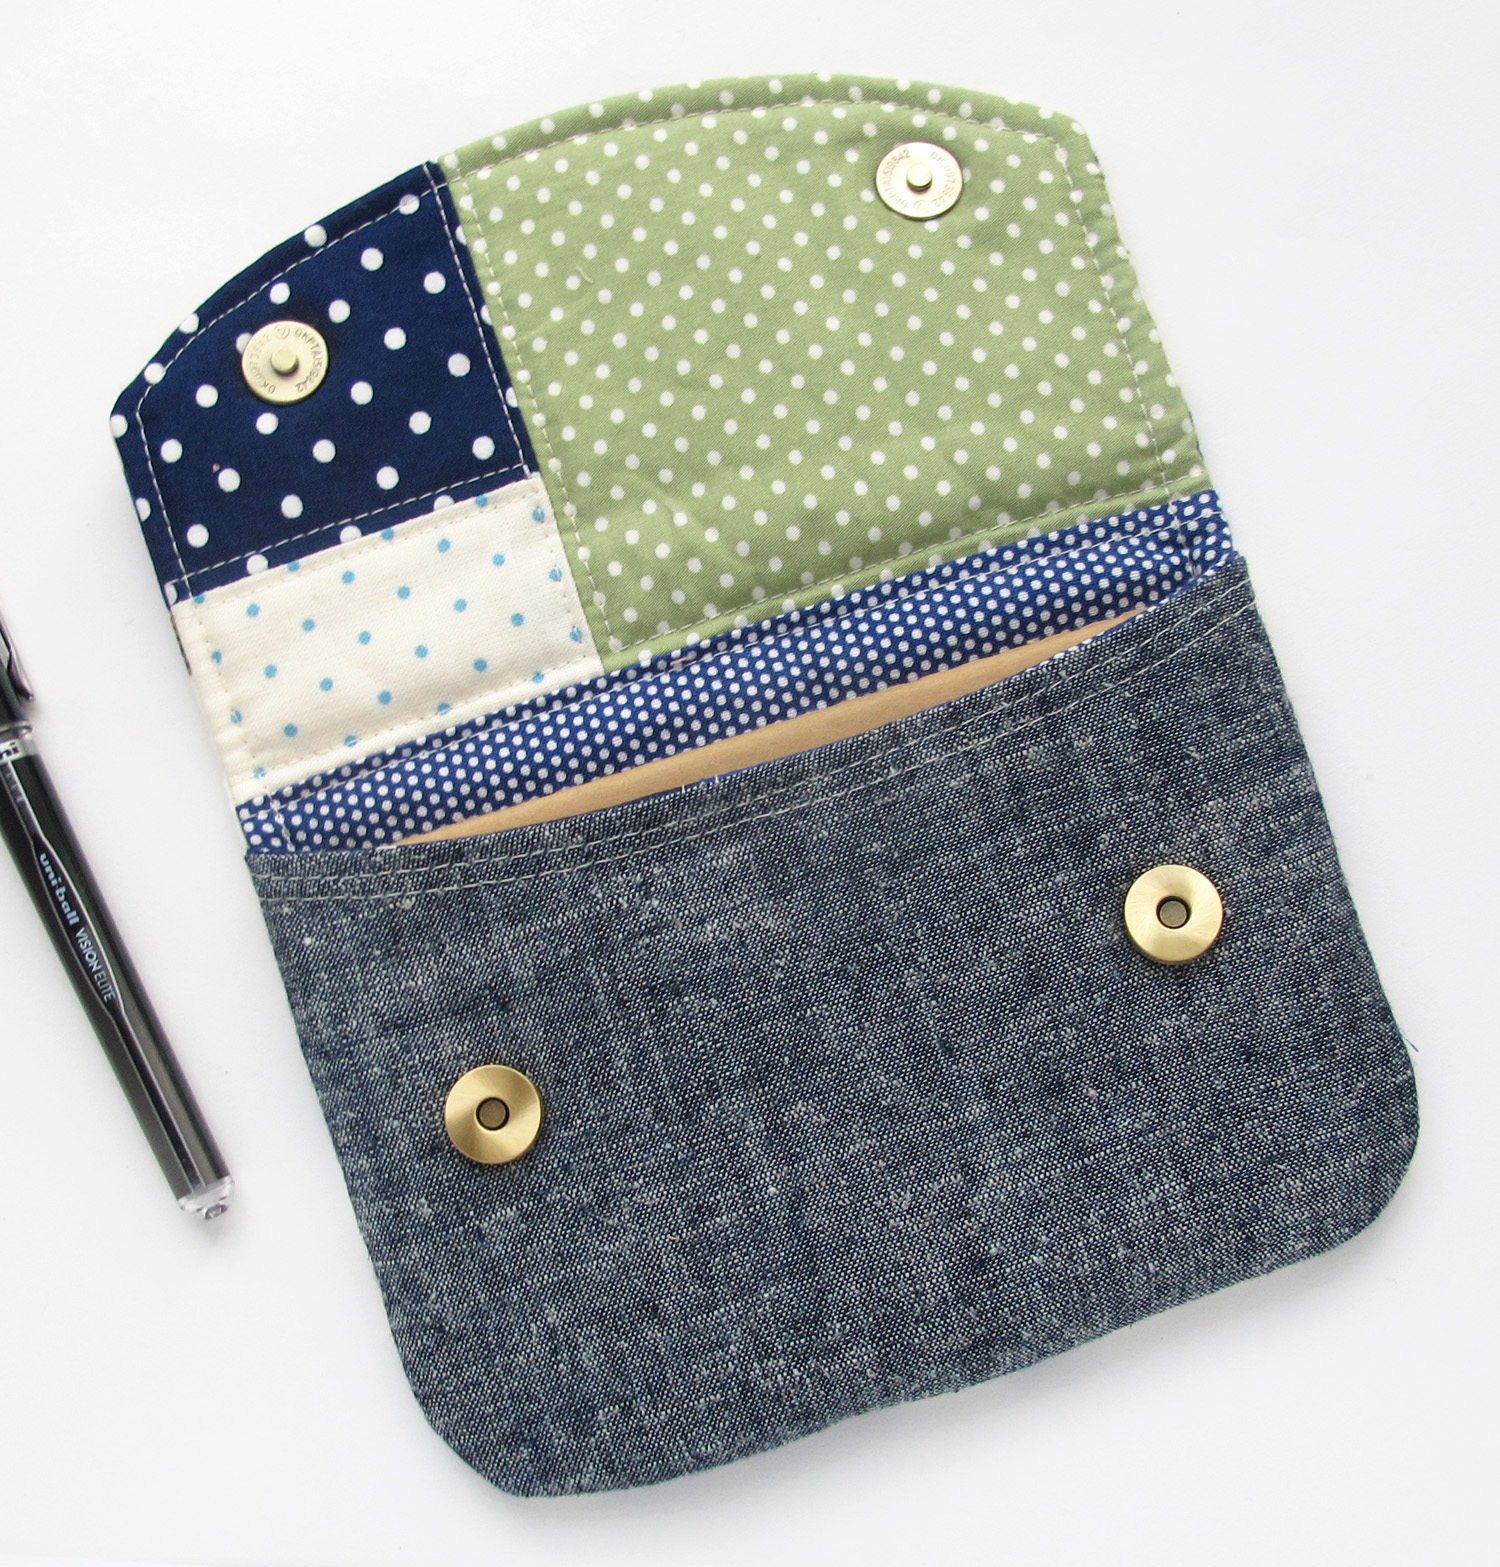monedero: (106, 64, 1430, 1504)
